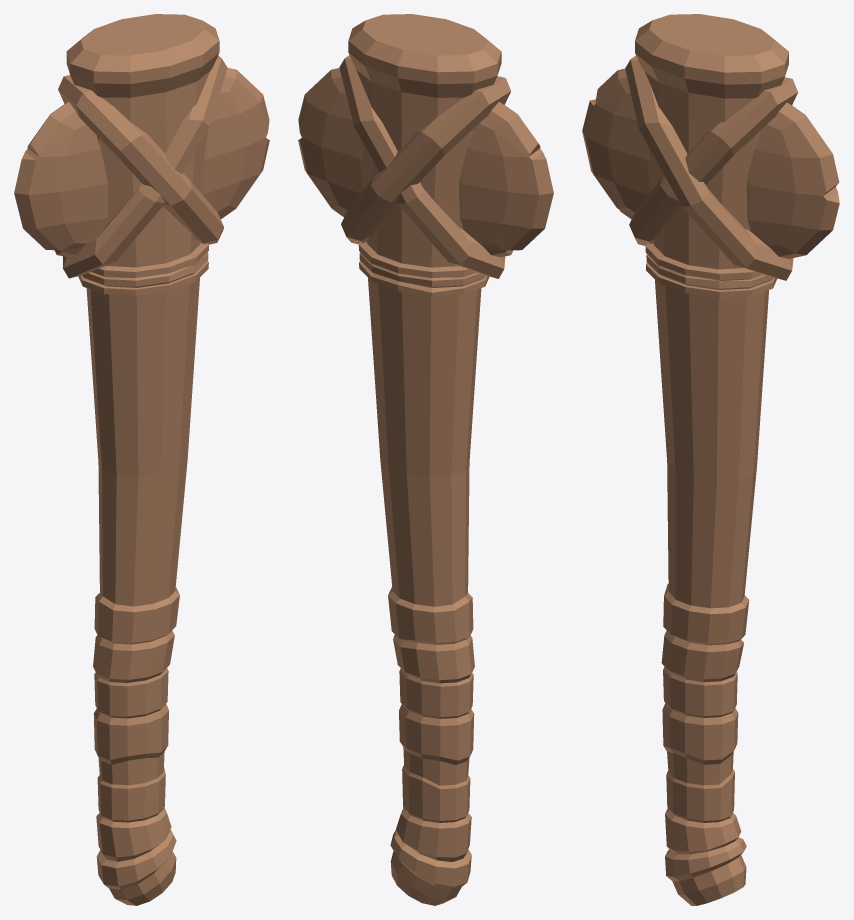
Rendered from Stone Club.glb.
3 renders of one model, left to right at view 1: azimuth 30°, elevation 25°; view 2: azimuth 150°, elevation 25°; view 3: azimuth 330°, elevation 25°, orthographic.
Parts seen in each view (by area): view 1: Stone Club; view 2: Stone Club; view 3: Stone Club.
Part boxes in pixels (<box>): Stone Club: <box>14,14,269,905</box>; Stone Club: <box>298,14,553,905</box>; Stone Club: <box>582,14,839,905</box>.
Bounding box in the file's own units: 42.57 × 138 × 17.73.
